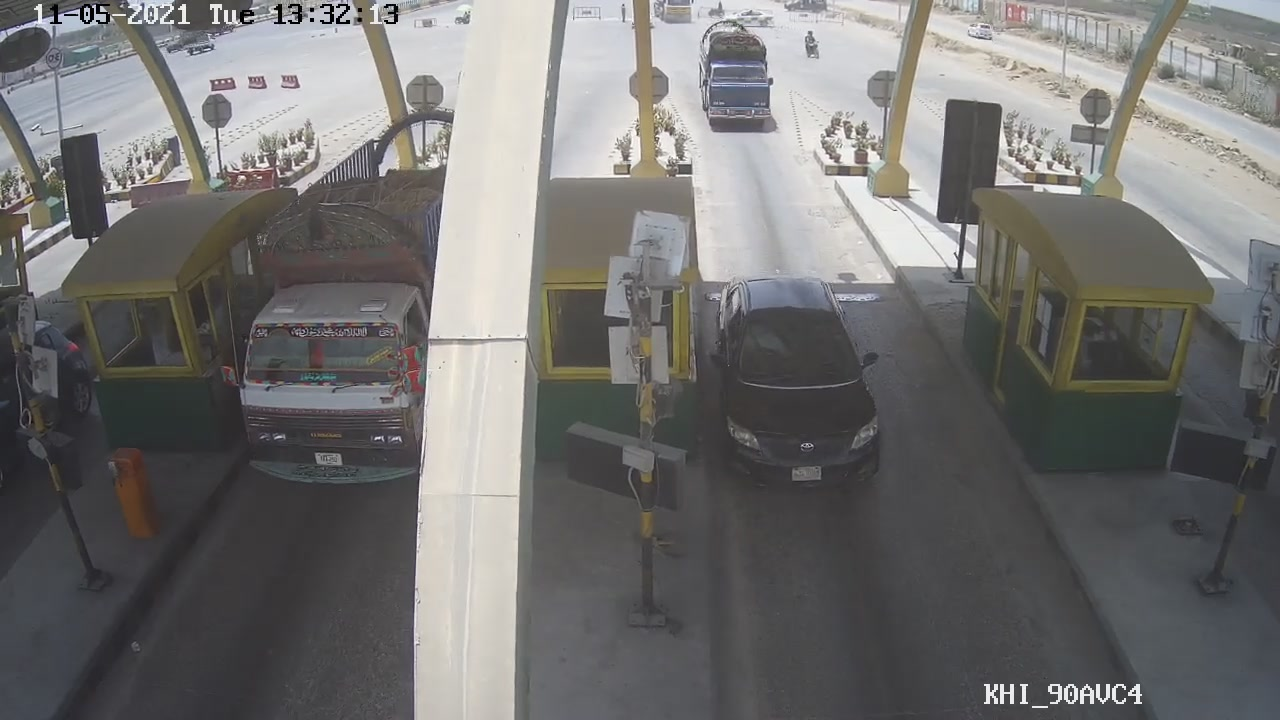F1: (706, 269, 890, 497)
